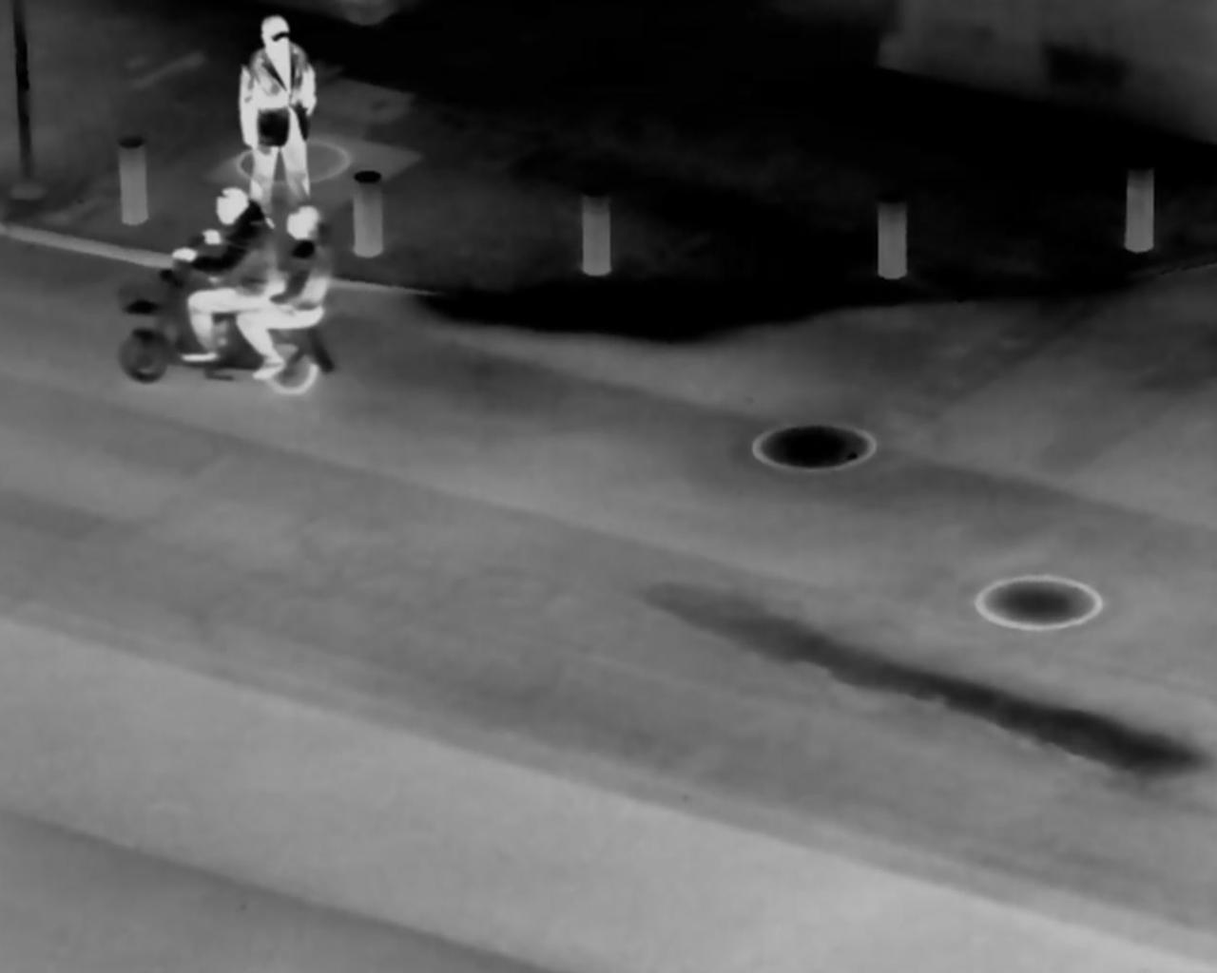person: (226, 11, 330, 211), (245, 197, 346, 383), (183, 172, 274, 367)
